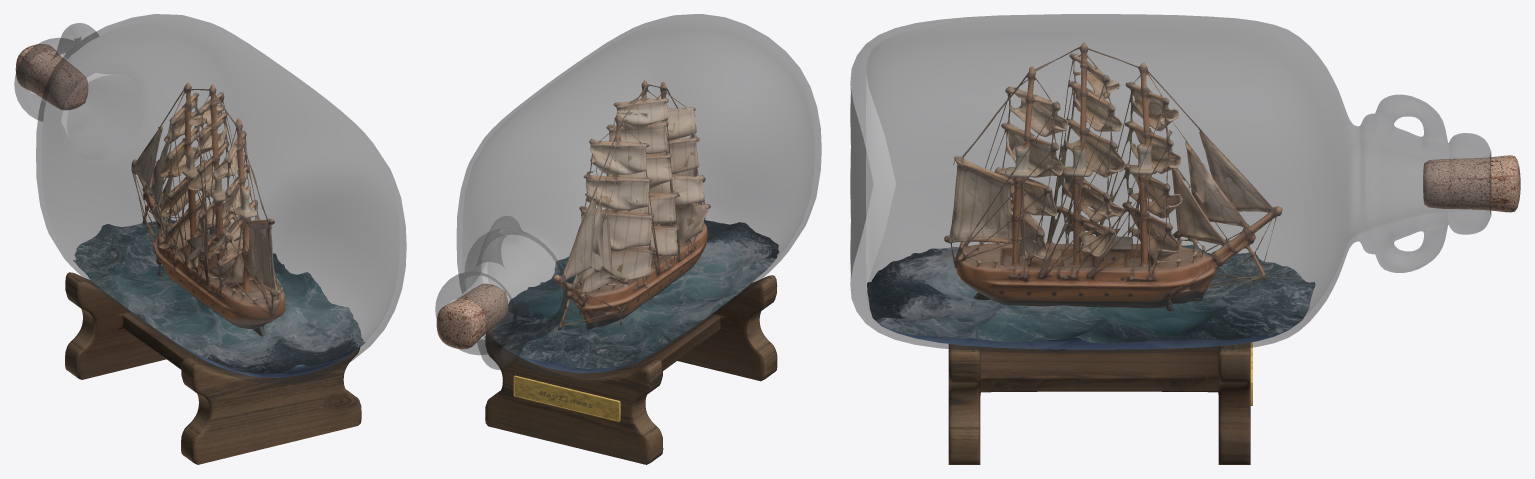
The model's file is Ship_bottle-transformed.glb.
3 views of the same model, side by side, from view 1: azimuth 30°, elevation 25°; view 2: azimuth 150°, elevation 25°; view 3: azimuth 270°, elevation 25° (orthographic). The views are drawn at different scales.
Visible parts, largest first — view 1: bottle_export, boat_export, support_export, sea, cap_export, bottle_export.001; view 2: bottle_export, boat_export, support_export, sea, cap_export, plaque_export; view 3: bottle_export, boat_export, sea, support_export, cap_export, bottle_export.001.
Boxes of the visible parts, <box> form: bottle_export: <box>14,14,406,383</box>; boat_export: <box>131,82,285,336</box>; support_export: <box>65,272,361,464</box>; sea: <box>73,219,365,377</box>; cap_export: <box>15,44,88,110</box>; bottle_export.001: <box>61,72,113,139</box>; bottle_export: <box>435,14,821,378</box>; boat_export: <box>552,80,710,330</box>; support_export: <box>485,275,777,464</box>; sea: <box>492,220,778,372</box>; cap_export: <box>436,283,508,349</box>; plaque_export: <box>513,375,620,421</box>; bottle_export: <box>850,14,1491,353</box>; boat_export: <box>944,42,1282,311</box>; sea: <box>867,243,1315,349</box>; support_export: <box>948,342,1250,464</box>; cap_export: <box>1423,155,1520,212</box>; bottle_export.001: <box>866,72,896,295</box>.
Size of the model in its own units: 1.4 by 2.14 by 3.35.
Materials: 8 (5 with a texture image).
